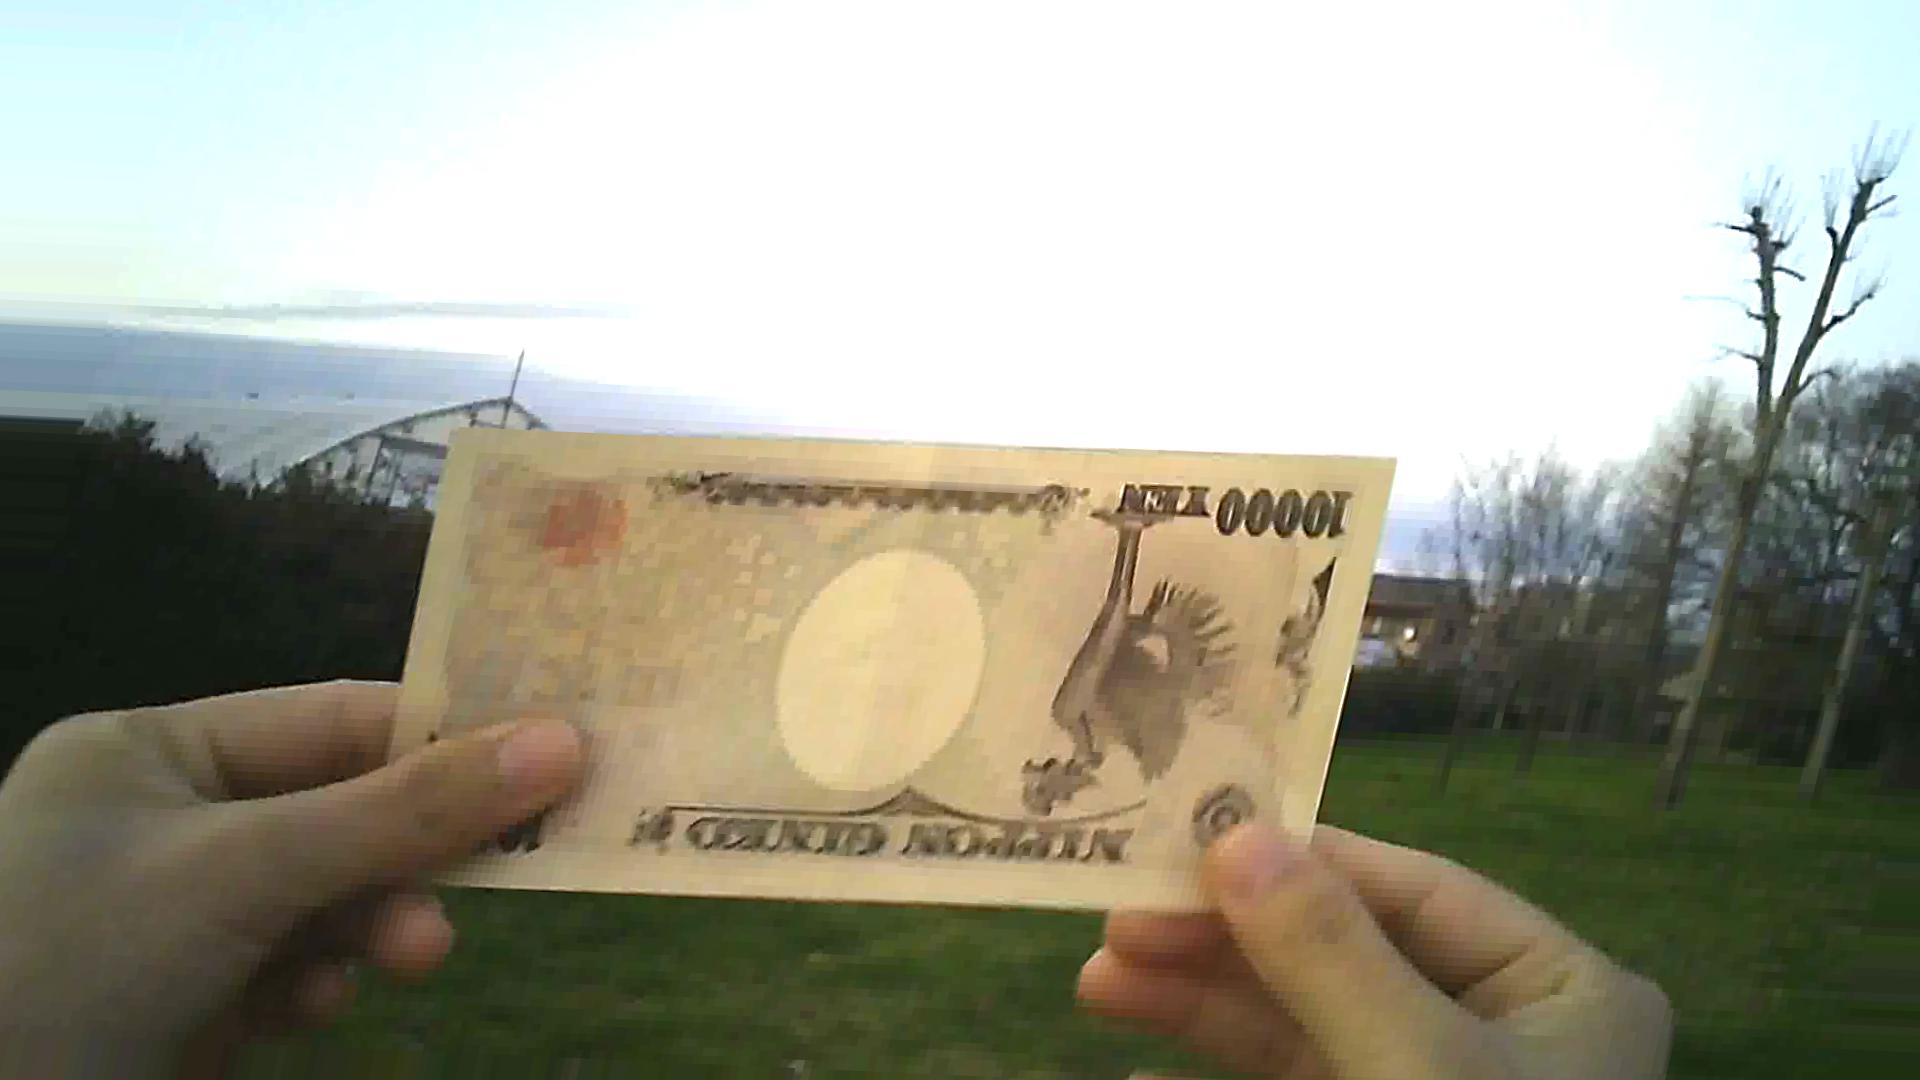10,000 Yen: (378, 414, 1415, 920)
